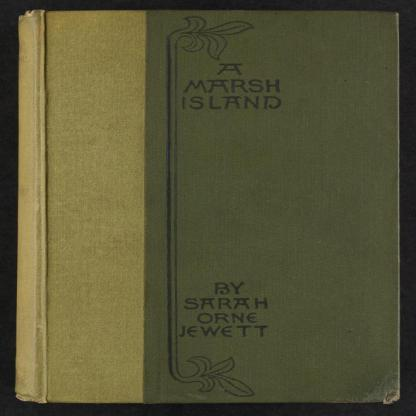book: (3, 8, 398, 406)
